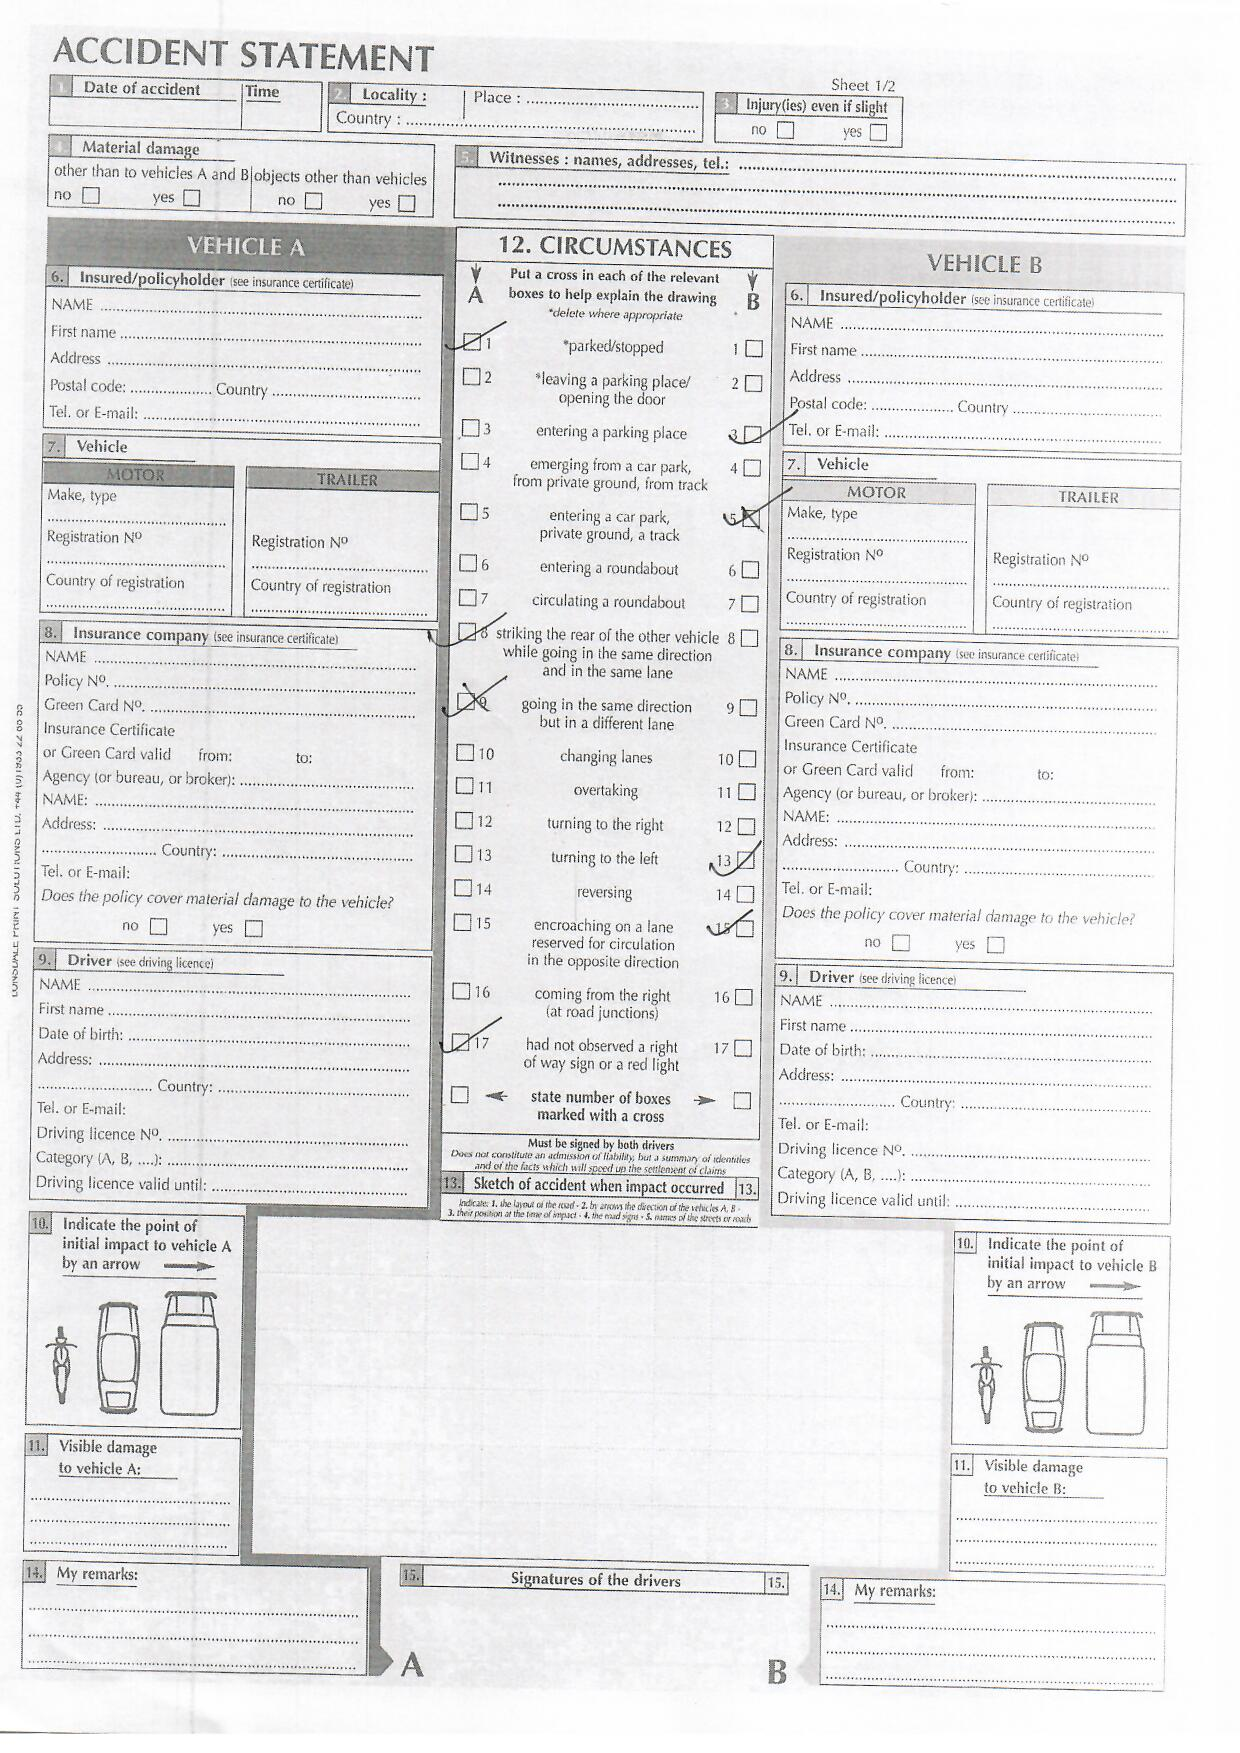a: (455, 619, 479, 646), (739, 421, 764, 447), (448, 1030, 472, 1055), (739, 505, 762, 532), (454, 689, 476, 713), (734, 850, 757, 872), (731, 919, 756, 940), (460, 330, 482, 352)
